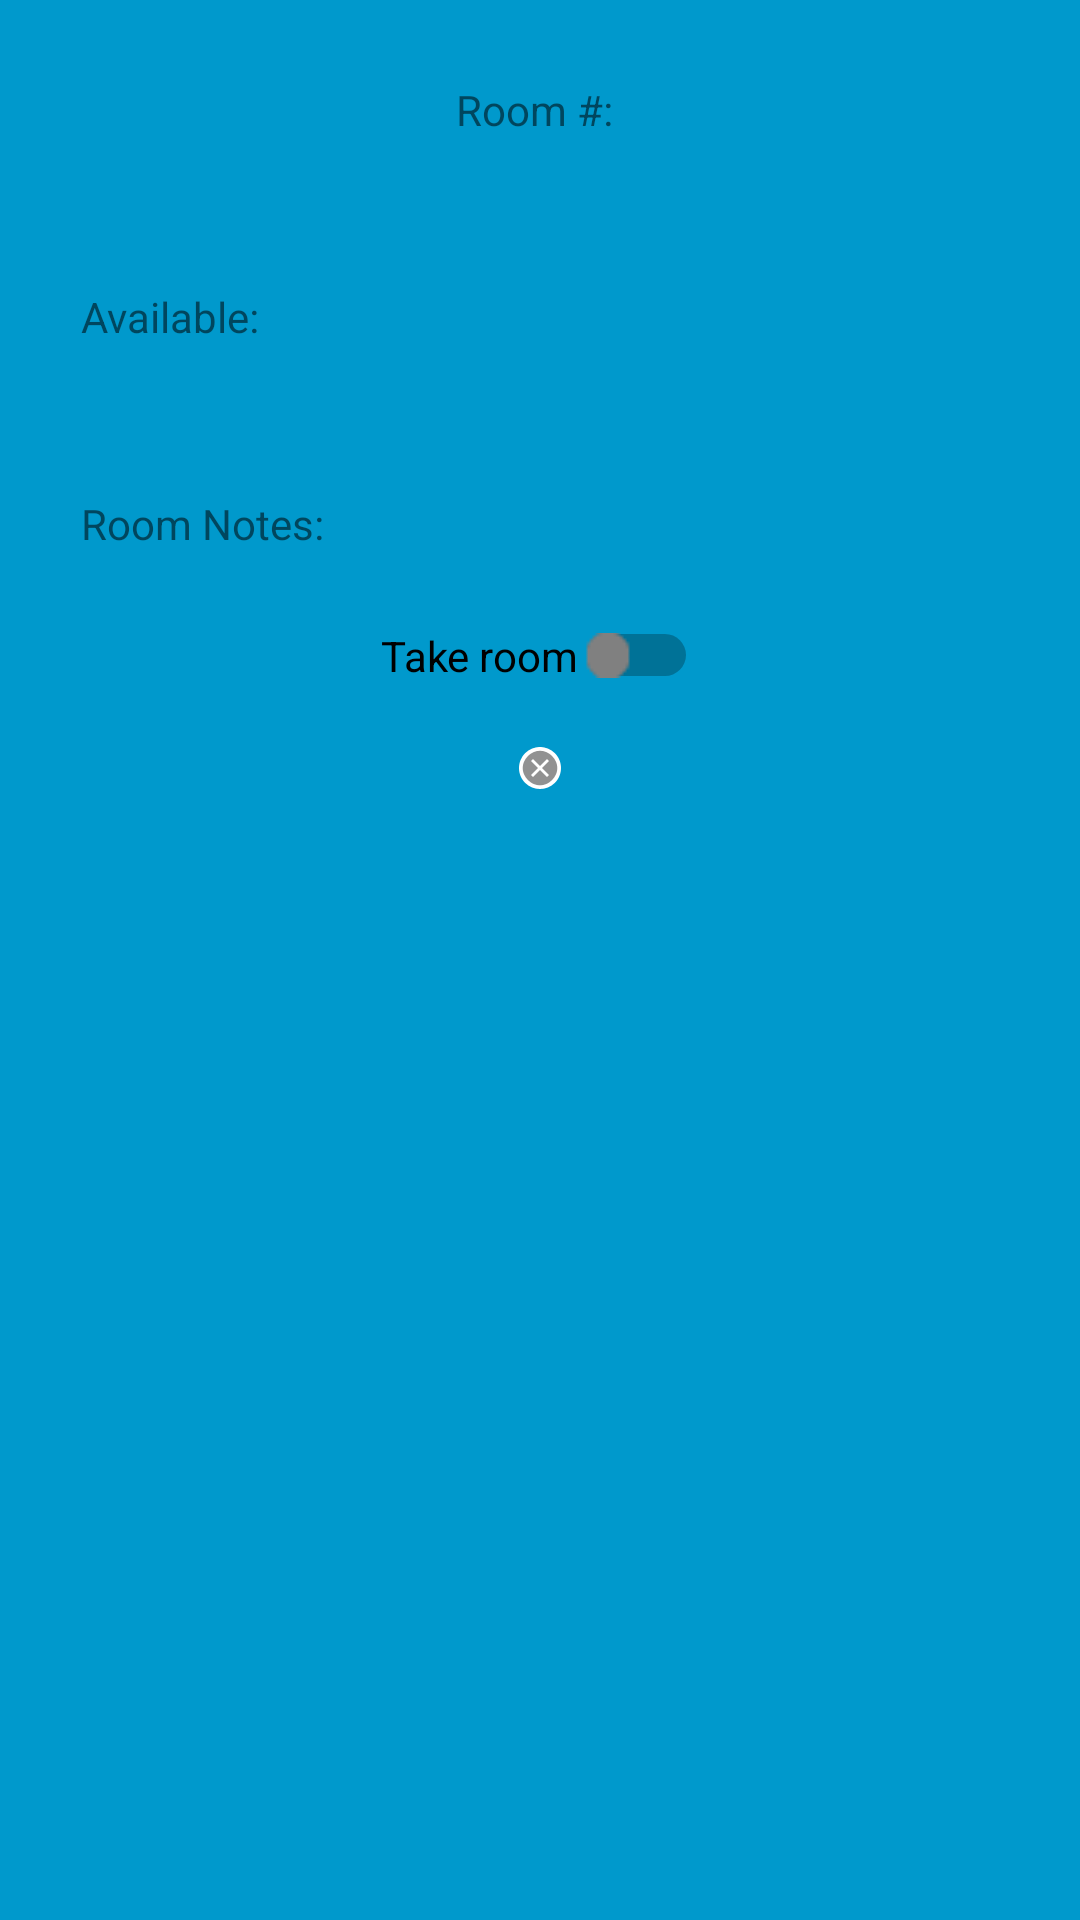

Icons on this 1080 x 1920 Android screen, each with the point to tap as (x,y):
presence offline: (540,768)
